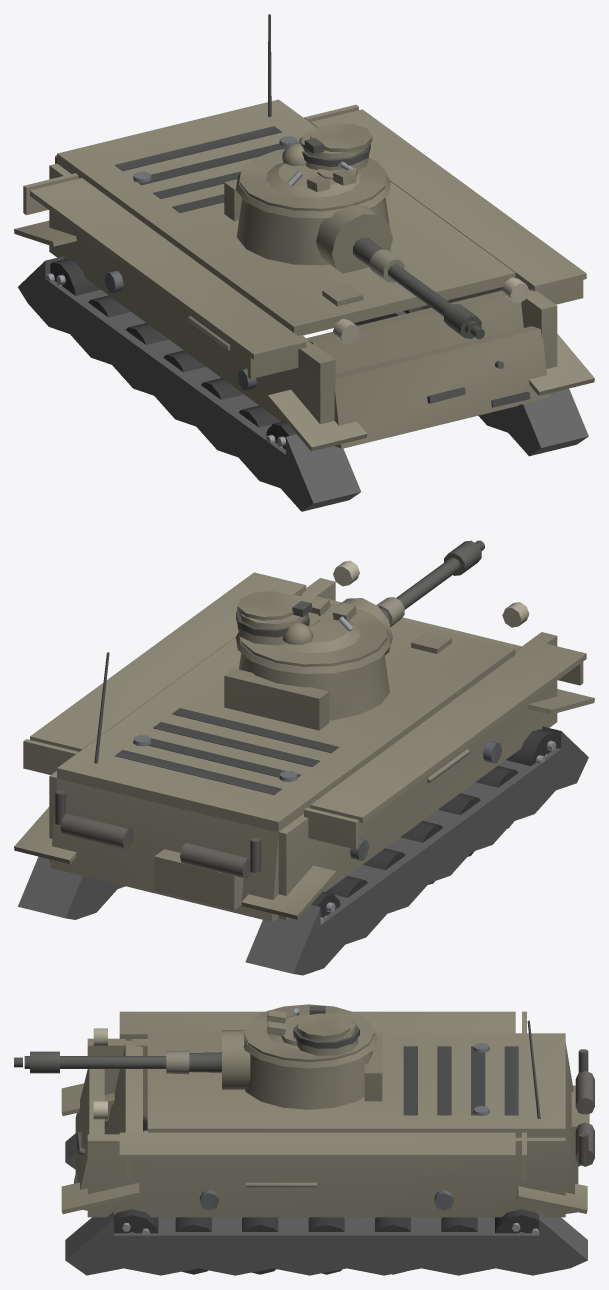
File: valentine.glb
3 views of the same model, one above another, from view 1: azimuth 30°, elevation 25°; view 2: azimuth 150°, elevation 25°; view 3: azimuth 270°, elevation 25° (orthographic). The views are drawn at different scales.
Visible parts, largest first — view 1: hullSide, hullTop, tracks, lowerPlate, turretRoof, glacis, turretFront, mantlet, barrel, turretSide, wheel6; view 2: hullSide, hullTop, tracks, hullRear, turretRoof, turretRear, turretFront, barrel, turretSide, glacis, wheel5, mantlet; view 3: hullSide, hullTop, tracks, turretRoof, turretFront, hullRear, barrel, glacis, lowerPlate, mantlet, turretSide, turretRear (+7 smaller).
Boxes of the visible parts, x1,y1,x2,y2 form: hullSide: [23, 104, 586, 449]; hullTop: [57, 99, 515, 335]; tracks: [14, 220, 594, 511]; lowerPlate: [334, 326, 549, 448]; turretRoof: [239, 123, 386, 211]; glacis: [306, 284, 530, 448]; turretFront: [236, 197, 389, 265]; mantlet: [316, 205, 392, 273]; barrel: [353, 237, 484, 339]; turretSide: [236, 172, 390, 218]; wheel6: [45, 259, 100, 295]; hullSide: [23, 560, 586, 920]; hullTop: [57, 595, 515, 831]; tracks: [14, 689, 594, 975]; hullRear: [50, 652, 279, 921]; turretRoof: [236, 591, 386, 666]; turretRear: [224, 668, 329, 730]; turretFront: [239, 653, 389, 720]; barrel: [376, 540, 484, 626]; turretSide: [236, 628, 390, 673]; glacis: [310, 595, 521, 653]; wheel5: [506, 729, 556, 765]; mantlet: [340, 598, 392, 655]; hullSide: [87, 1011, 565, 1217]; hullTop: [147, 1033, 565, 1137]; tracks: [61, 1083, 587, 1275]; turretRoof: [243, 1004, 374, 1062]; turretFront: [244, 1050, 372, 1109]; hullRear: [527, 1020, 594, 1213]; barrel: [14, 1051, 221, 1074]; glacis: [74, 1043, 191, 1183]; lowerPlate: [75, 1069, 104, 1210]; mantlet: [222, 1030, 250, 1089]; turretSide: [243, 1033, 377, 1068]; turretRear: [364, 1032, 382, 1101].
Bounding box in the file's own units: 3.83 × 2.9 × 6.56.
